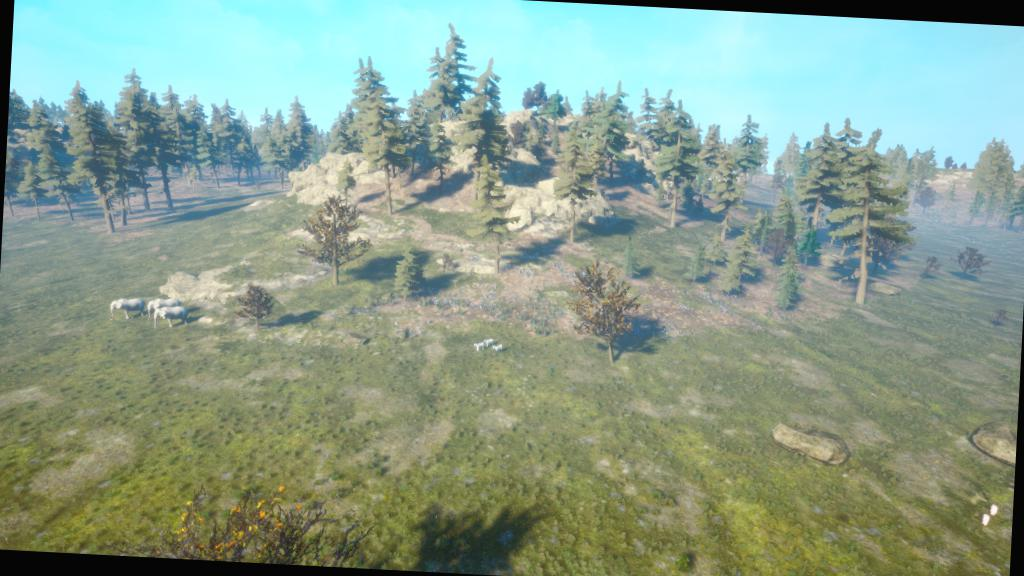elephant: (152, 303, 192, 333), (105, 296, 149, 321), (146, 297, 184, 323)
pig: (986, 503, 1002, 519), (979, 511, 992, 530)
zebra: (470, 341, 488, 354), (490, 342, 506, 356), (480, 334, 494, 348)
